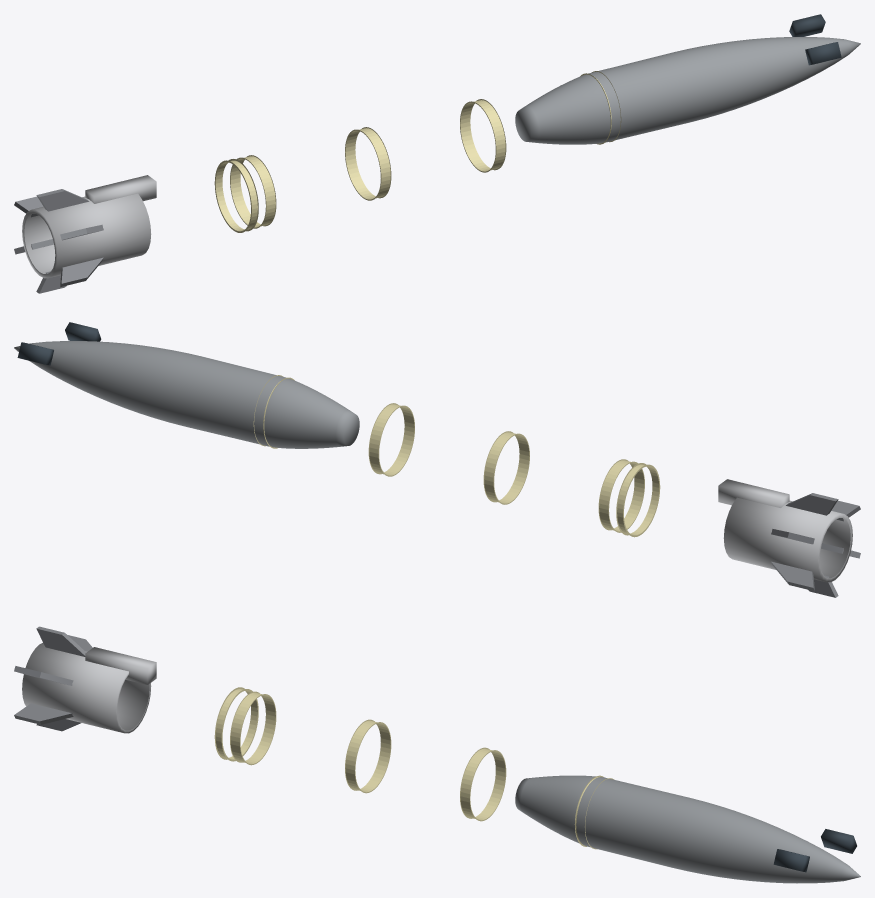
The model's file is UK_TORP_Spearfish_LOD0.fbx.
3 views of the same model, one above another, from view 1: azimuth 30°, elevation 25°; view 2: azimuth 150°, elevation 25°; view 3: azimuth 330°, elevation 25° (orthographic).
Visible parts, largest first — view 1: WPN_UK_TORP_Spearfish_LOD0_Body, WPN_UK_TORP_Spearfish_LOD0_Propulsor, WPN_UK_TORP_Spearfish_LOD0_Marking, WPN_UK_TORP_Spearfish_LOD0_Fins, WPN_UK_TORP_Spearfish_LOD0_Detail, WPN_UK_TORP_Spearfish_LOD0_Seeker; view 2: WPN_UK_TORP_Spearfish_LOD0_Body, WPN_UK_TORP_Spearfish_LOD0_Propulsor, WPN_UK_TORP_Spearfish_LOD0_Marking, WPN_UK_TORP_Spearfish_LOD0_Fins, WPN_UK_TORP_Spearfish_LOD0_Detail, WPN_UK_TORP_Spearfish_LOD0_Seeker; view 3: WPN_UK_TORP_Spearfish_LOD0_Body, WPN_UK_TORP_Spearfish_LOD0_Propulsor, WPN_UK_TORP_Spearfish_LOD0_Marking, WPN_UK_TORP_Spearfish_LOD0_Fins, WPN_UK_TORP_Spearfish_LOD0_Detail, WPN_UK_TORP_Spearfish_LOD0_Seeker.
Part boxes in pixels (x1,y1,x2,y2): WPN_UK_TORP_Spearfish_LOD0_Body: (515, 37, 860, 144); WPN_UK_TORP_Spearfish_LOD0_Propulsor: (22, 193, 151, 278); WPN_UK_TORP_Spearfish_LOD0_Marking: (214, 71, 621, 232); WPN_UK_TORP_Spearfish_LOD0_Fins: (14, 189, 103, 293); WPN_UK_TORP_Spearfish_LOD0_Detail: (85, 175, 156, 203); WPN_UK_TORP_Spearfish_LOD0_Seeker: (789, 14, 841, 65); WPN_UK_TORP_Spearfish_LOD0_Body: (14, 341, 359, 448); WPN_UK_TORP_Spearfish_LOD0_Propulsor: (723, 497, 852, 582); WPN_UK_TORP_Spearfish_LOD0_Marking: (253, 375, 660, 537); WPN_UK_TORP_Spearfish_LOD0_Fins: (771, 493, 860, 597); WPN_UK_TORP_Spearfish_LOD0_Detail: (718, 479, 789, 507); WPN_UK_TORP_Spearfish_LOD0_Seeker: (17, 322, 101, 365); WPN_UK_TORP_Spearfish_LOD0_Body: (515, 775, 860, 883); WPN_UK_TORP_Spearfish_LOD0_Propulsor: (22, 643, 151, 733); WPN_UK_TORP_Spearfish_LOD0_Marking: (214, 687, 614, 849); WPN_UK_TORP_Spearfish_LOD0_Fins: (14, 626, 92, 731); WPN_UK_TORP_Spearfish_LOD0_Detail: (85, 647, 156, 684); WPN_UK_TORP_Spearfish_LOD0_Seeker: (773, 829, 856, 872).
Size of the model in its own units: 7.02 by 0.7026 by 0.7867.
